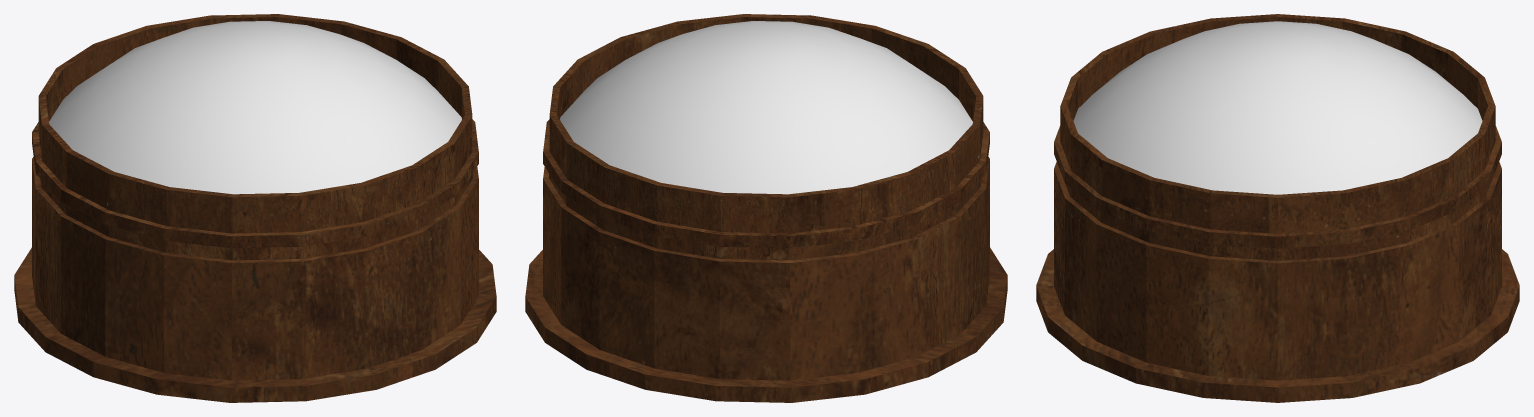
Rendered from relic_Compass_test1.fbx.
3 renders of one model, left to right at view 1: azimuth 30°, elevation 25°; view 2: azimuth 150°, elevation 25°; view 3: azimuth 270°, elevation 25°, orthographic.
Parts seen in each view (by area): view 1: polySurface3, polySurface4; view 2: polySurface3, polySurface4; view 3: polySurface3, polySurface4.
Boxes of the visible parts, left/top/right/bottom form: polySurface3: left=14, top=14, right=496, bottom=402; polySurface4: left=49, top=21, right=461, bottom=194; polySurface3: left=525, top=14, right=1007, bottom=402; polySurface4: left=560, top=21, right=972, bottom=194; polySurface3: left=1036, top=14, right=1519, bottom=402; polySurface4: left=1073, top=21, right=1482, bottom=194.
Size of what is drawn, in the model's own units: 2.39 by 1.38 by 2.39.
3 materials, 2 textured.
